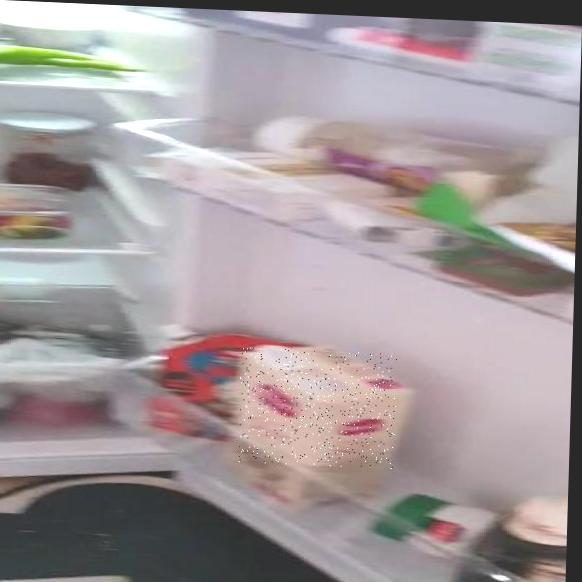milk: (238, 347, 397, 469)
